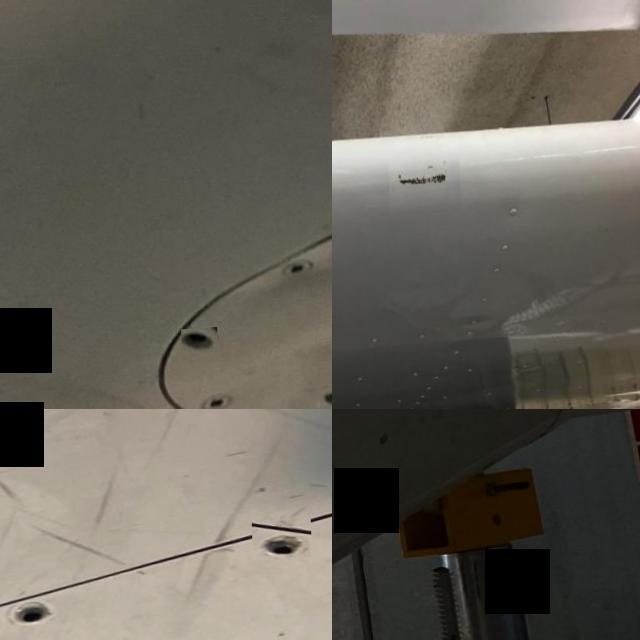Crack: (387, 160, 459, 220)
Missing_Fastener: (2, 594, 62, 640), (248, 522, 308, 565), (178, 332, 214, 359), (315, 393, 332, 409)
